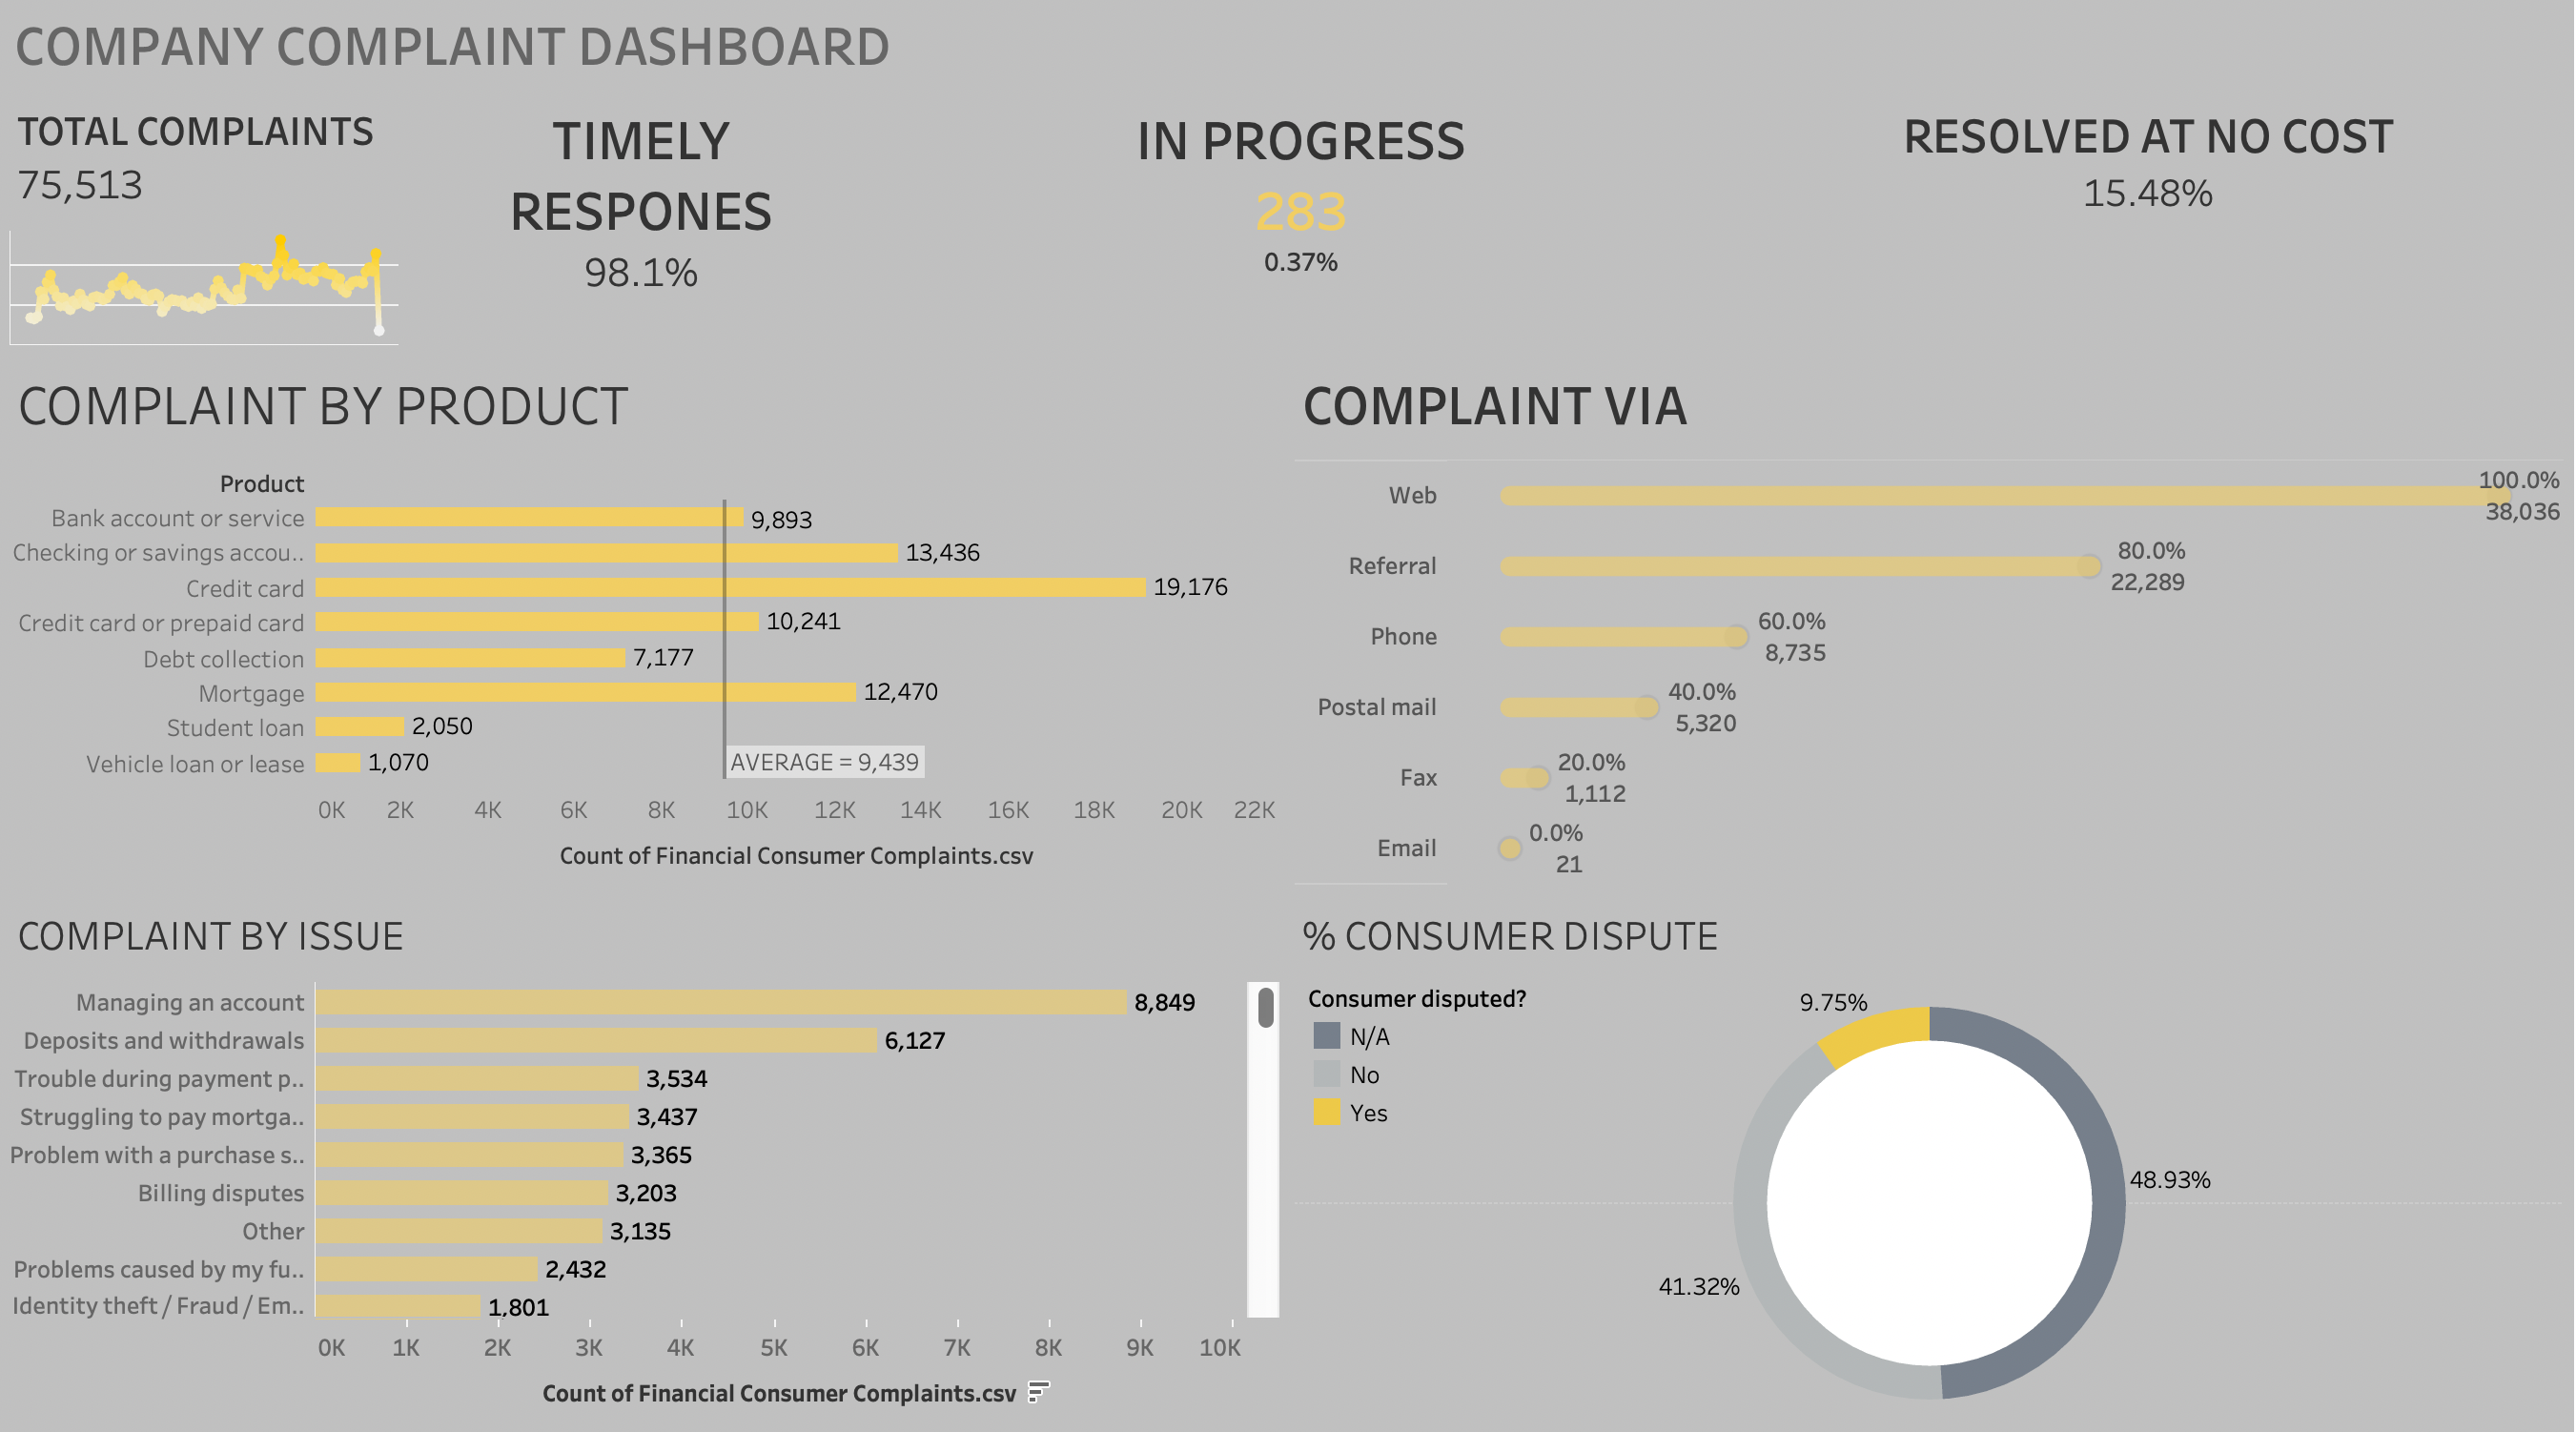

The page's visual inventory and layout, read from the dashboard file:
{"tool":"tableau","page":{"name":"Dashboard 1","canvas":[1366,768],"ordinal":0},"visuals":[{"type":"text","box":[9,9,1348,44.7]},{"type":"worksheet","title":"TOTAL COMPLAINTS","mark":"Automatic","rows":["Financial Consumer Complaints.csv_407BC5FB1F1F45F6B0A3727851"],"cols":["Date Sumbited"],"box":[9,53.7,212,139]},{"type":"worksheet","title":"TIMELY RESPONES","mark":"Automatic","box":[221,53.7,247,139]},{"type":"worksheet","title":"IN PROGRESS","mark":"Automatic","box":[468,53.7,444.5,139]},{"type":"worksheet","title":"RESOLVED AT NO COST","mark":"Automatic","box":[912.5,53.7,444.5,139]},{"type":"worksheet","title":"COMPLAINT BY PRODUCT","mark":"Automatic","rows":["Product"],"cols":["Financial Consumer Complaints.csv_407BC5FB1F1F45F6B0A3727851"],"box":[9,192.7,674,283.2]},{"type":"worksheet","title":"COMPLAINT VIA","mark":"Automatic","rows":["Submitted via"],"cols":["Financial Consumer Complaints.csv_407BC5FB1F1F45F6B0A3727851"],"box":[683,192.7,674,283.2]},{"type":"worksheet","title":"COMPLAINT BY ISSUE","mark":"Automatic","rows":["Issue"],"cols":["Financial Consumer Complaints.csv_407BC5FB1F1F45F6B0A3727851"],"box":[9,475.8,674,283.2]},{"type":"worksheet","title":"% CONSUMER DISPUTE","mark":"Pie","rows":["Calculation_886294333356421121","Calculation_886294333356449795"],"box":[683,475.8,674,283.2]},{"type":"legend","title":"% CONSUMER DISPUTE","param":"[federated.14osbgn1wcfp5417gcszk1roy4az].[none:Consumer disputed?:nk]","box":[693.9,523.2,148.9,82.6]}]}

Visuals, with their boxes in screenshot pixels (x1, y1, x2, y2), scaled from the page's 1366x768 canvas onto the 2576x1432 screenshot:
text: [left=17, top=17, right=2559, bottom=100]
"TOTAL COMPLAINTS" worksheet: [left=17, top=100, right=417, bottom=359]
"TIMELY RESPONES" worksheet: [left=417, top=100, right=883, bottom=359]
"IN PROGRESS" worksheet: [left=883, top=100, right=1721, bottom=359]
"RESOLVED AT NO COST" worksheet: [left=1721, top=100, right=2559, bottom=359]
"COMPLAINT BY PRODUCT" worksheet: [left=17, top=359, right=1288, bottom=888]
"COMPLAINT VIA" worksheet: [left=1288, top=359, right=2559, bottom=888]
"COMPLAINT BY ISSUE" worksheet: [left=17, top=888, right=1288, bottom=1415]
"% CONSUMER DISPUTE" worksheet (Pie marks): [left=1288, top=888, right=2559, bottom=1415]
"% CONSUMER DISPUTE" legend: [left=1309, top=975, right=1589, bottom=1130]
